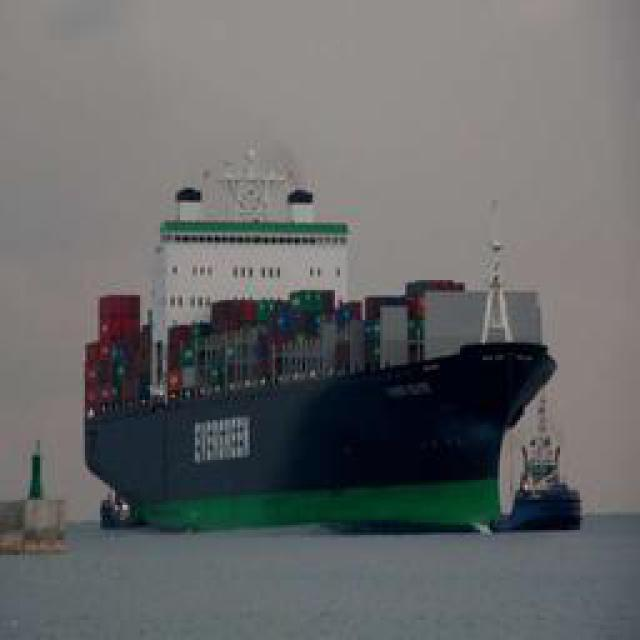Ship: (75, 139, 565, 544)
